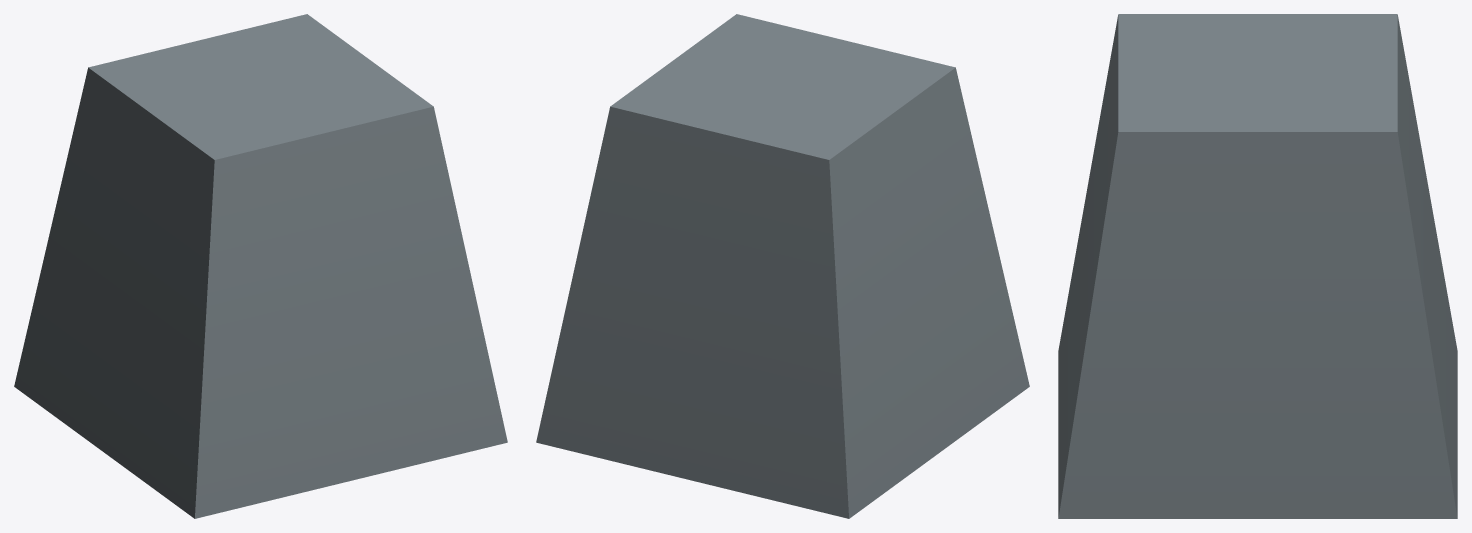
File: Rock_2_A_Color1.glb
3 renders of one model, left to right at view 1: azimuth 30°, elevation 25°; view 2: azimuth 150°, elevation 25°; view 3: azimuth 270°, elevation 25°, orthographic. The views are drawn at different scales.
Parts seen in each view (by area): view 1: Rock_2_A_Color1; view 2: Rock_2_A_Color1; view 3: Rock_2_A_Color1.
Part boxes in pixels (box(x1,y1,x2,y2)): Rock_2_A_Color1: box(14, 14, 507, 518); Rock_2_A_Color1: box(536, 14, 1029, 518); Rock_2_A_Color1: box(1058, 14, 1457, 518).
Bounding box in the file's own units: 0.2156 × 0.2156 × 0.2156.
Materials: 1 (1 with a texture image).
